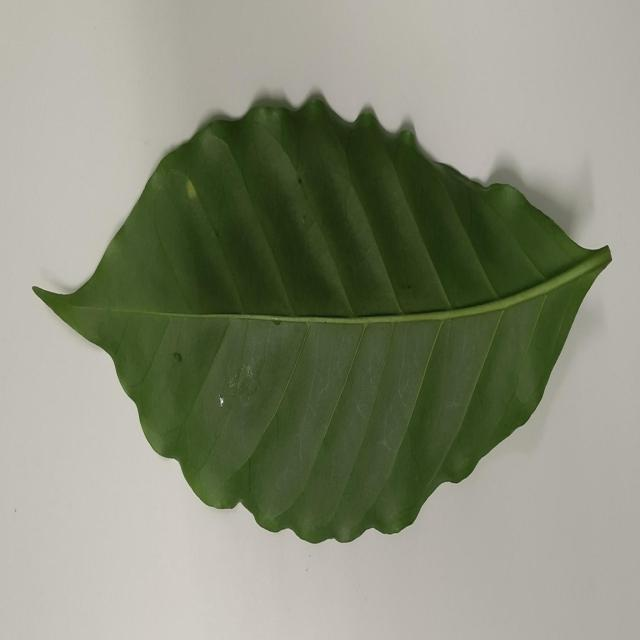Sanas: (32, 92, 613, 548)
